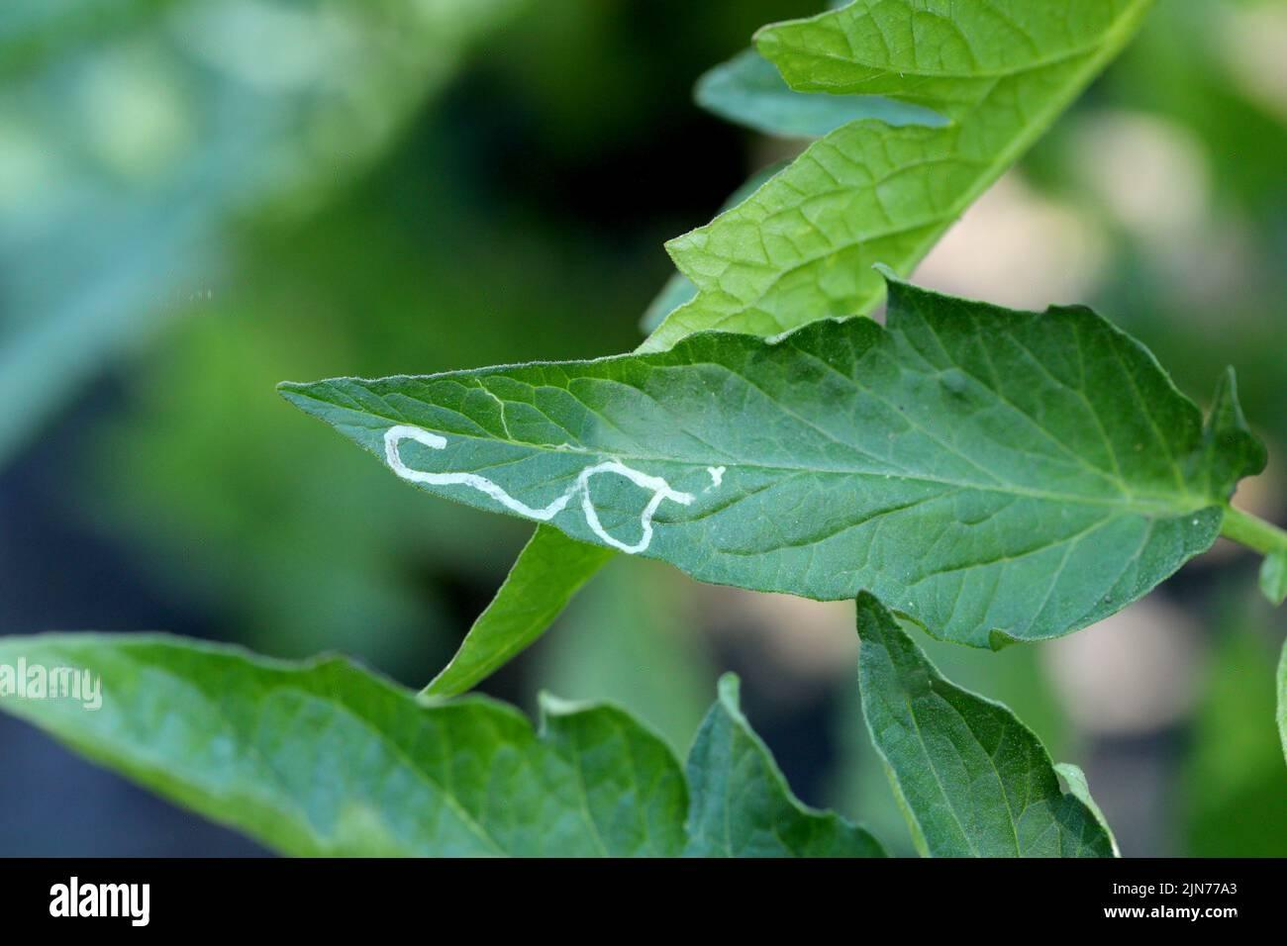Leaf_Miner: (280, 260, 1272, 651)
